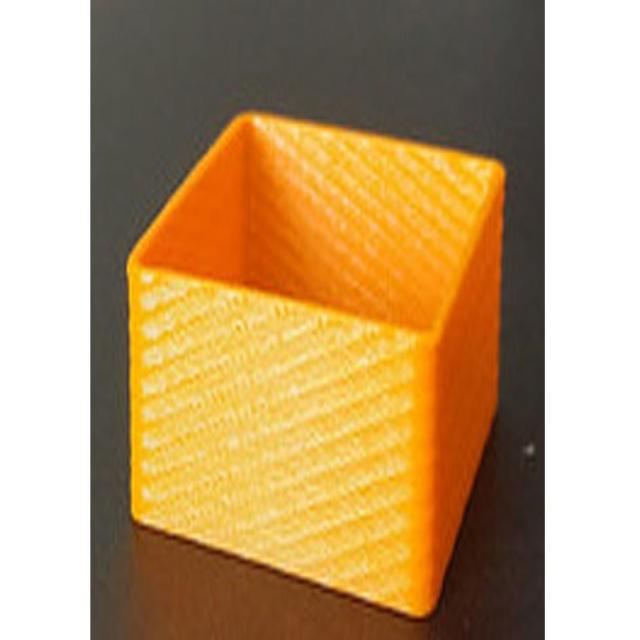Without deffect: (113, 100, 508, 630)
